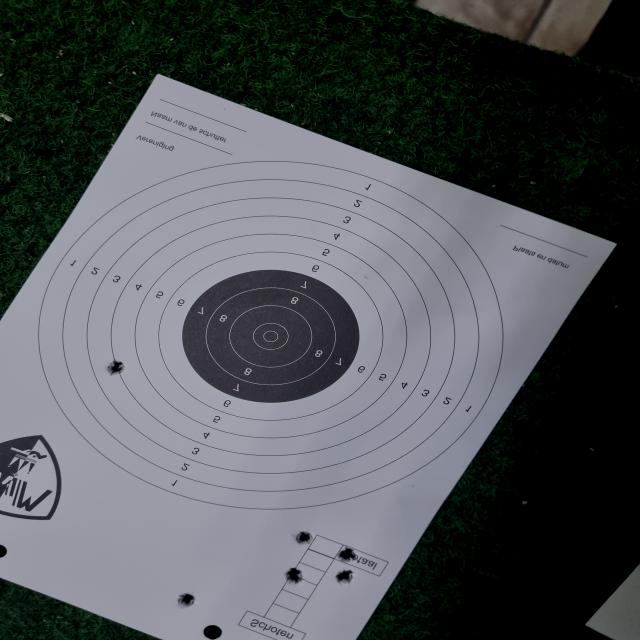0: (285, 568, 303, 584), (338, 548, 357, 563), (295, 531, 314, 545), (335, 570, 353, 584), (178, 594, 196, 607)
4: (107, 361, 124, 376)
Target: (34, 161, 504, 512)
black_contour: (182, 270, 361, 404)
